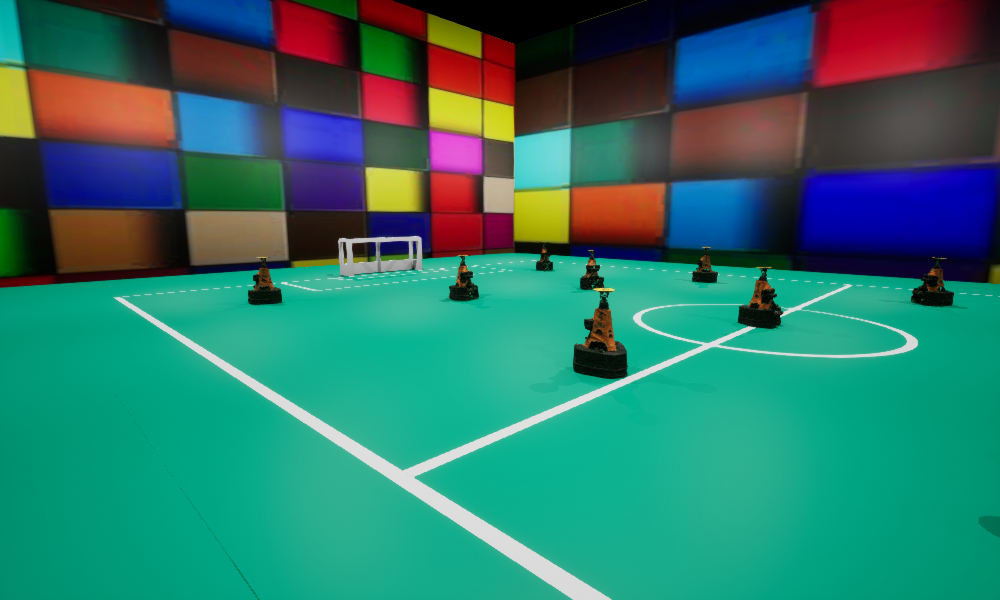0 orange robot TechUnited: (573, 288, 627, 378), (738, 267, 783, 328), (911, 257, 953, 305), (248, 257, 281, 304), (449, 255, 478, 300), (580, 250, 603, 289), (692, 247, 717, 282), (536, 242, 552, 270)
